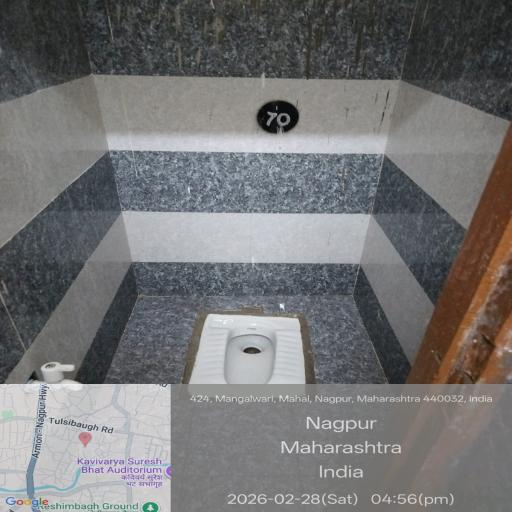clean_floor: (0, 0, 463, 299), (17, 293, 442, 382)
clean_indian: (197, 313, 304, 381)
